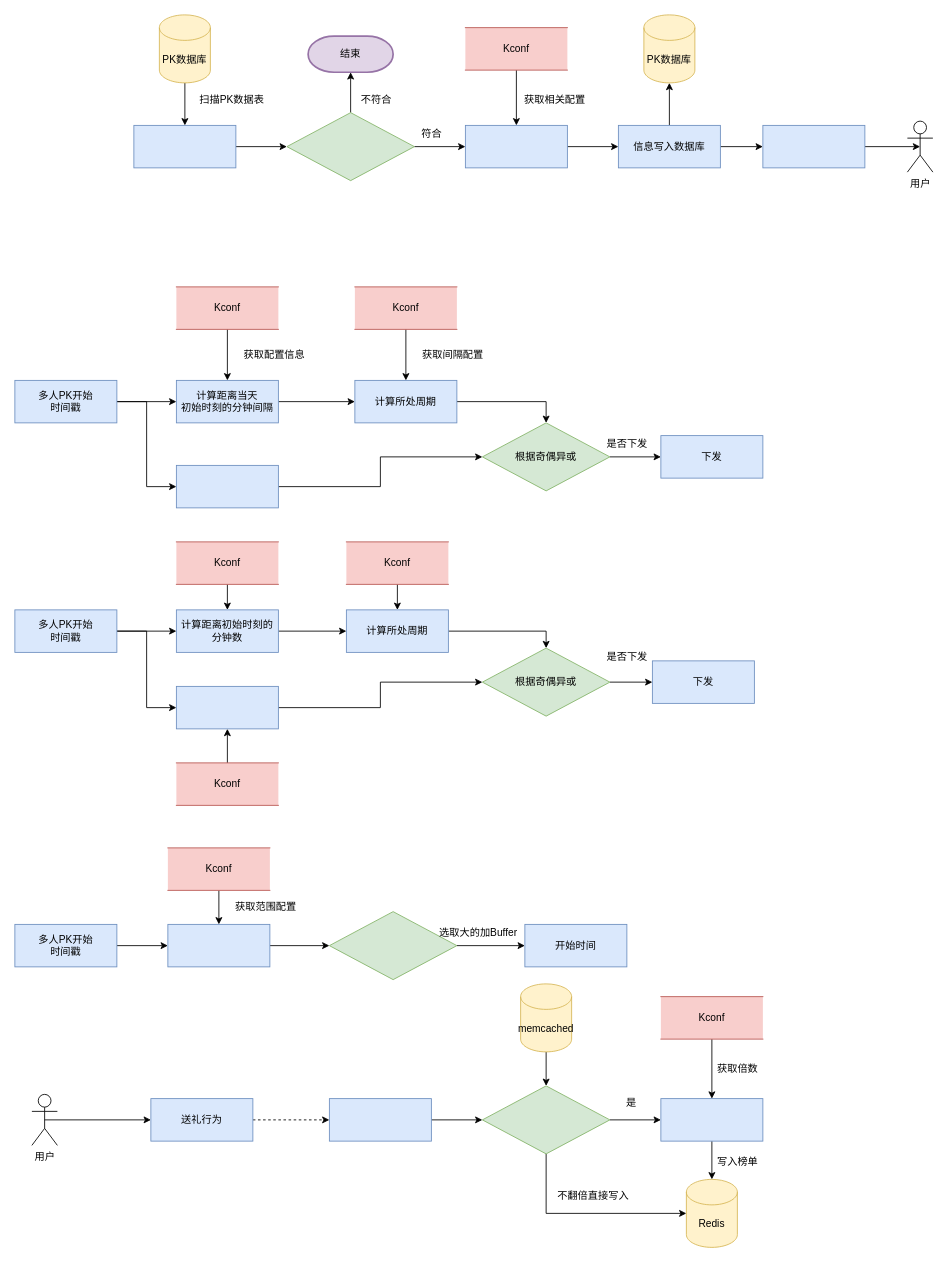
Some shapes in this 948 by 1262 pixel diagram are drawn without their labels. The centre of each missing label's shape, as x and y in pixels:
"下发信令" goes at (813,146).
"判断当前是否为暴击时刻" goes at (546,1119).
"判断当前自然天" goes at (227,486).
"定时任务" goes at (184,146).
"暴击时刻信息计算" goes at (516,146).
"比较与当前时间大小" goes at (393,945).
"积分翻倍" goes at (711,1119).
"计算距离初始时刻的天数" goes at (227,707).
"过滤状态" goes at (350,146).
"送礼事件监听" goes at (380,1119).
"随机生成指定范围的时间" goes at (218,945).
